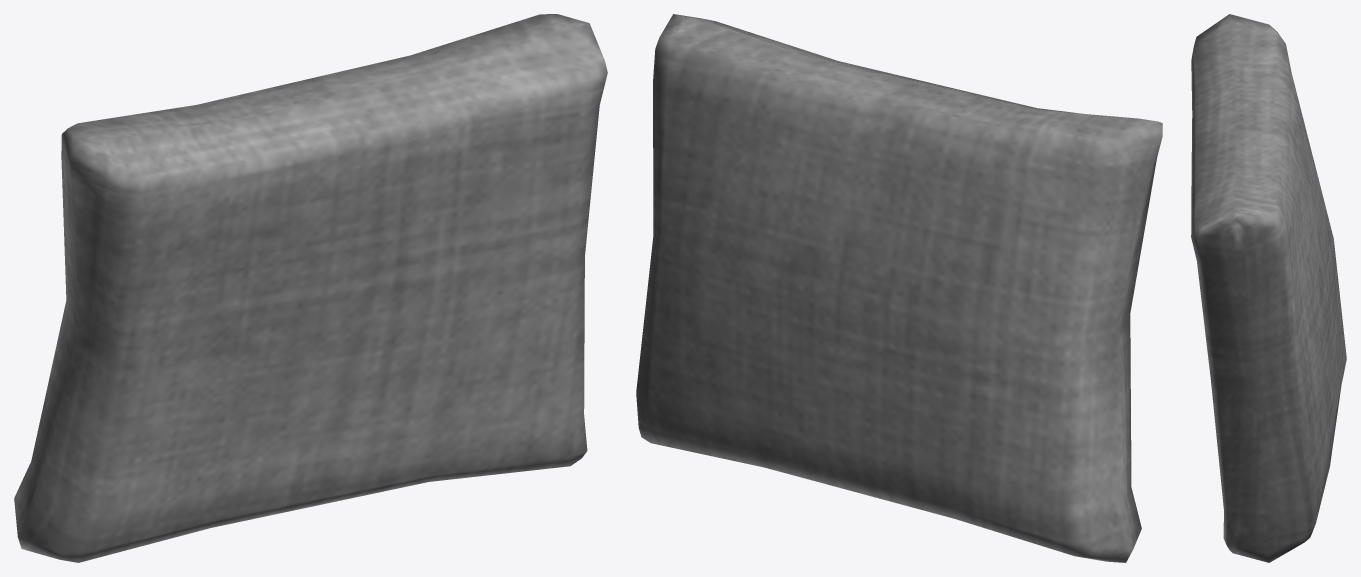
File: Cushion 1.FBX
3 renders of one model, left to right at view 1: azimuth 30°, elevation 25°; view 2: azimuth 150°, elevation 25°; view 3: azimuth 270°, elevation 25°, orthographic. The views are drawn at different scales.
Parts seen in each view (by area): view 1: Cushion01; view 2: Cushion01; view 3: Cushion01.
Part boxes in pixels (x1,y1,x2,y2): Cushion01: (14, 14, 607, 562); Cushion01: (636, 14, 1162, 562); Cushion01: (1191, 14, 1346, 562).
Bounding box in the file's own units: 0.7948 × 0.626 × 0.2513.
Materials: 1 (1 with a texture image).
